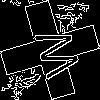W: (25, 25, 82, 84)
